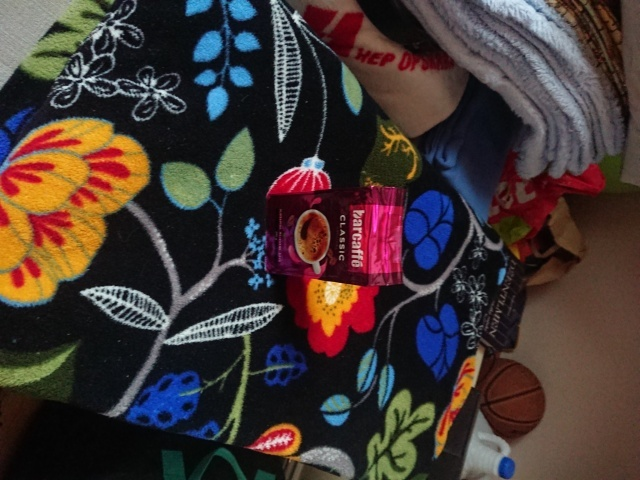Barcaffe Classic Original 225g: (264, 182, 411, 289)
